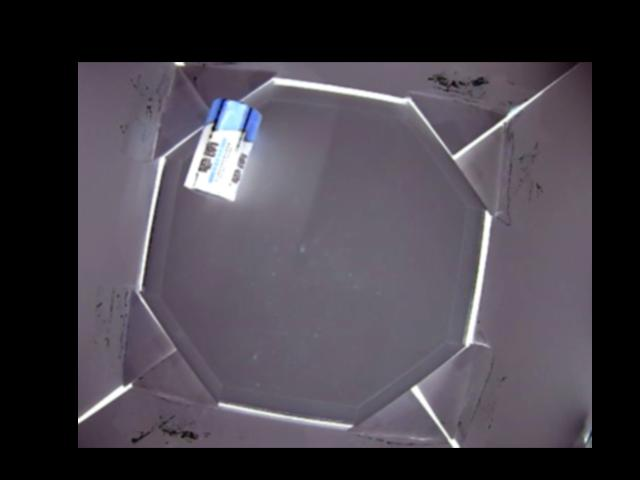Battery: (184, 95, 261, 201)
